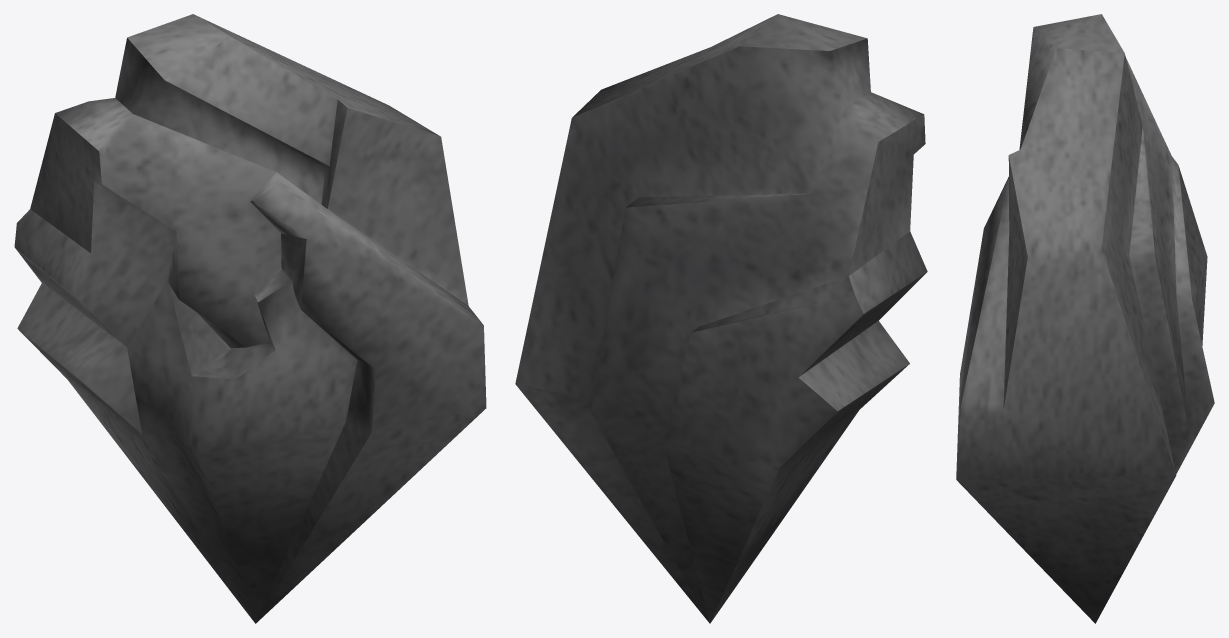
The picture shows the model from 3 angles, left to right: view 1: azimuth 30°, elevation 25°; view 2: azimuth 150°, elevation 25°; view 3: azimuth 270°, elevation 25°; orthographic projection. The views are drawn at different scales.
Visible parts, largest first — view 1: rock_LOD0; view 2: rock_LOD0; view 3: rock_LOD0.
Part boxes in pixels (x1,y1,x2,y2): rock_LOD0: (14, 14, 486, 623); rock_LOD0: (515, 14, 927, 623); rock_LOD0: (956, 14, 1214, 623).
Size of what is drawn, in the model's own units: 234 by 380 by 160.
